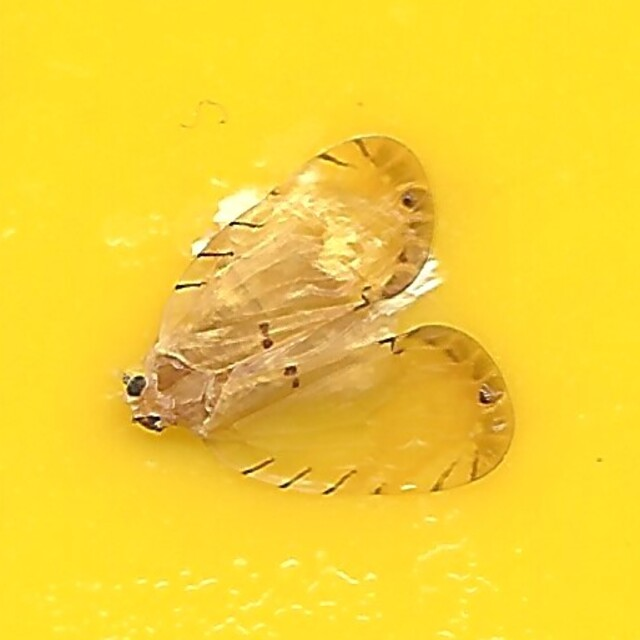Hemiptera: (125, 137, 515, 503)
